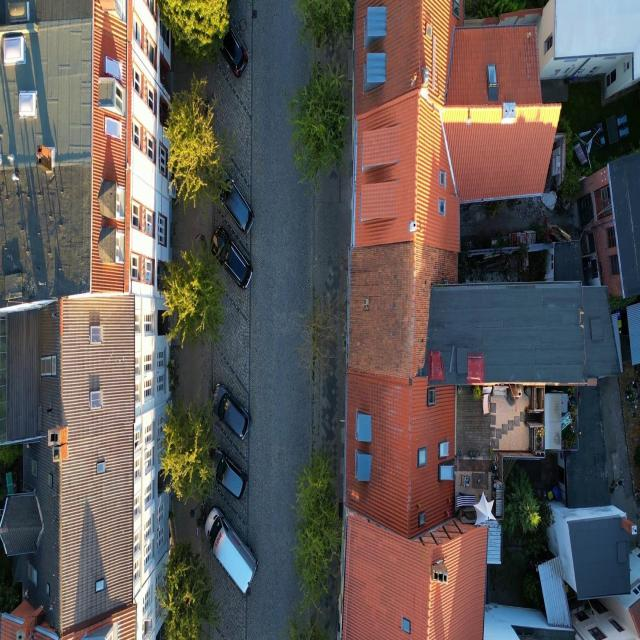Car: (199, 445, 247, 509), (211, 223, 253, 295), (210, 376, 253, 441)
